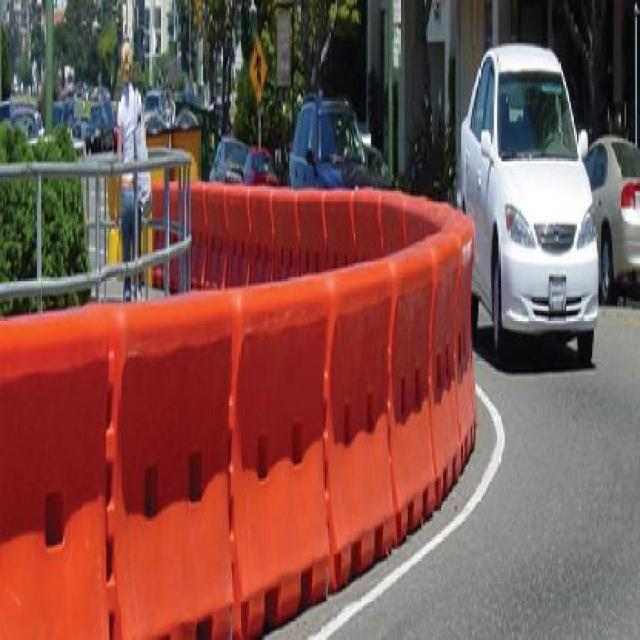fallen_object: (0, 302, 257, 636), (215, 262, 412, 612), (363, 212, 499, 512), (149, 167, 462, 292)
